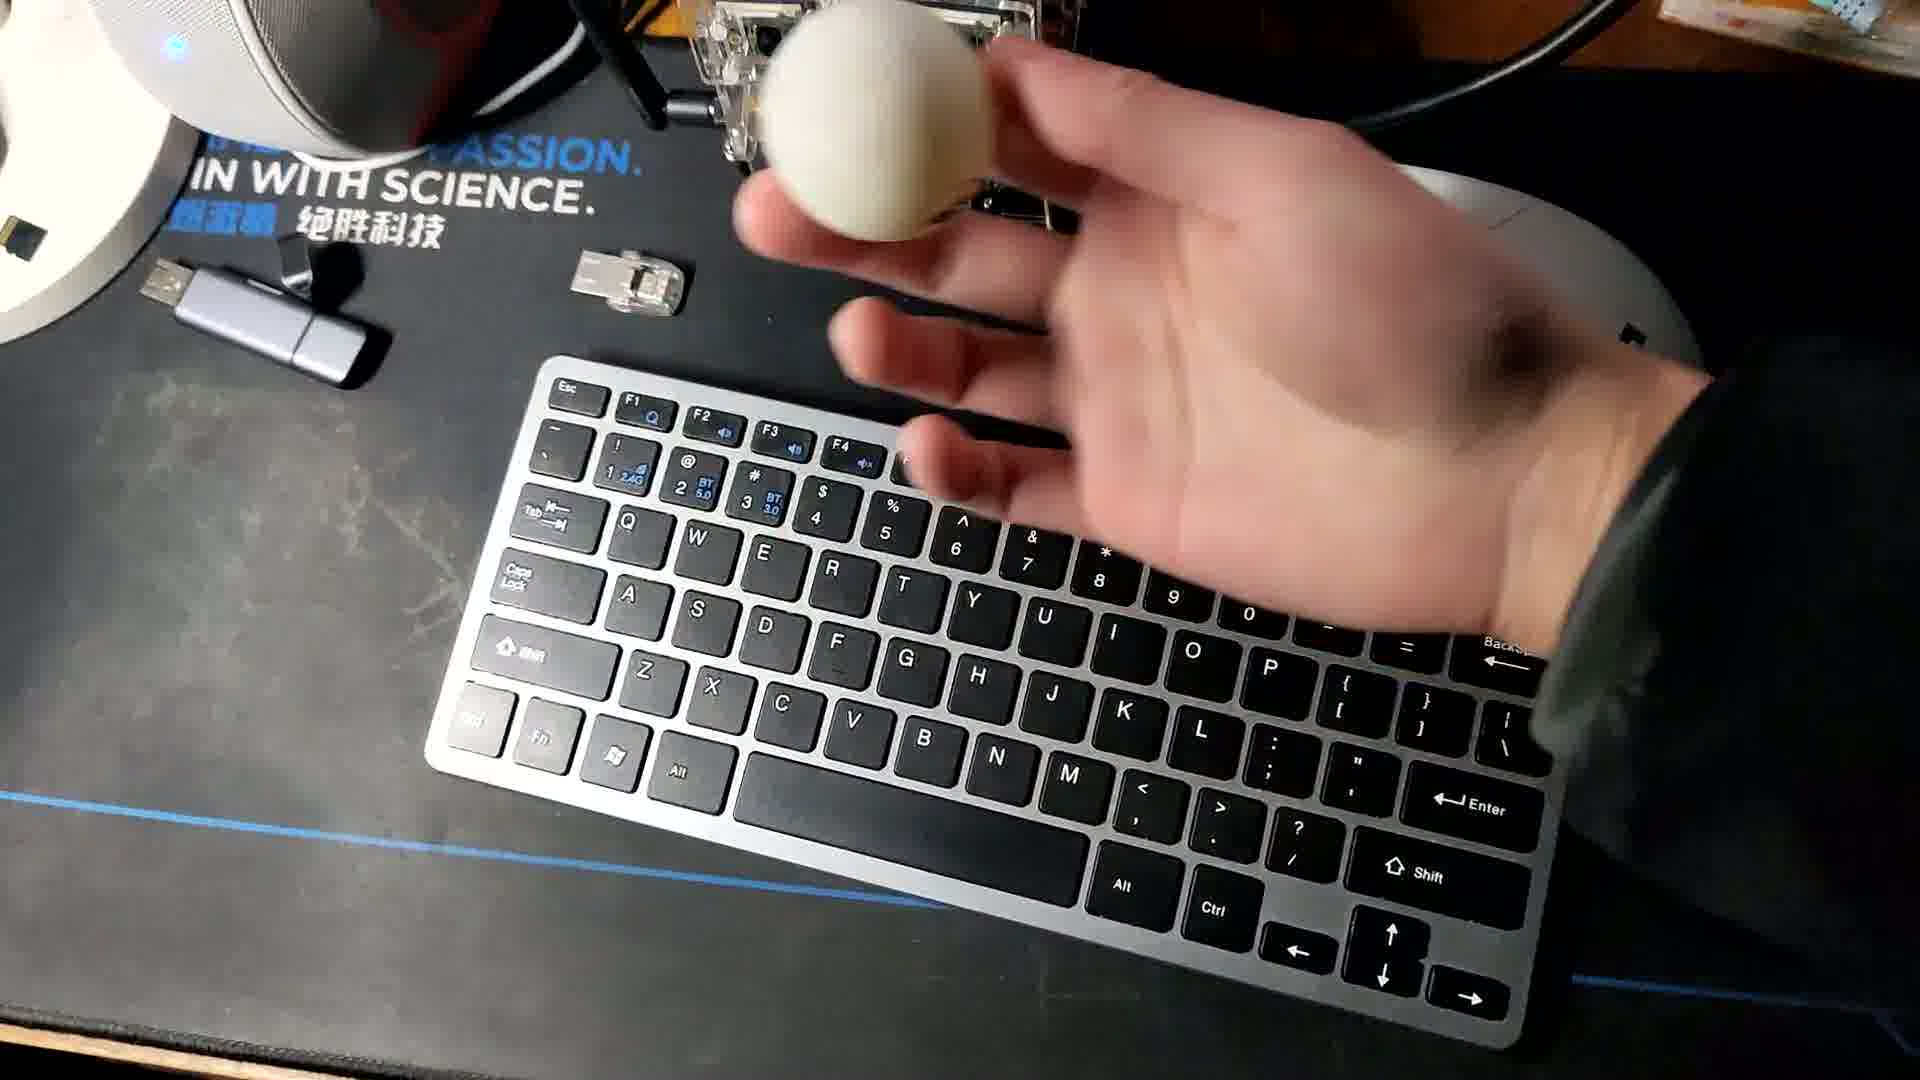Ball: (749, 3, 1000, 241)
